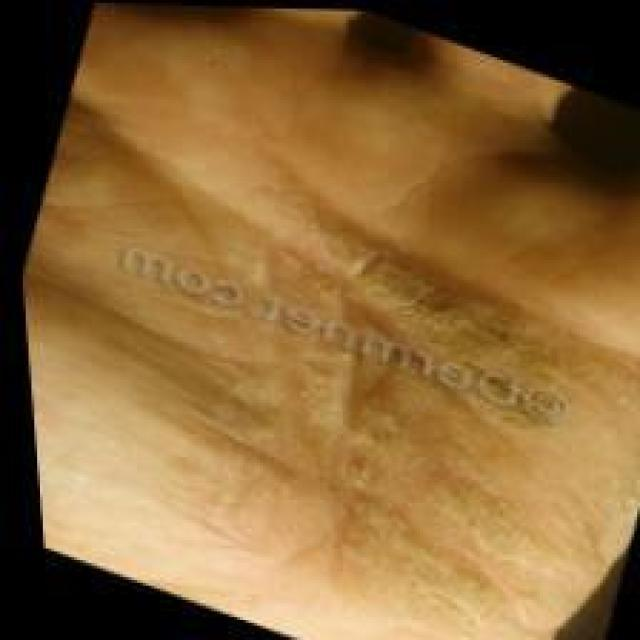Eczema: (228, 195, 602, 624)
